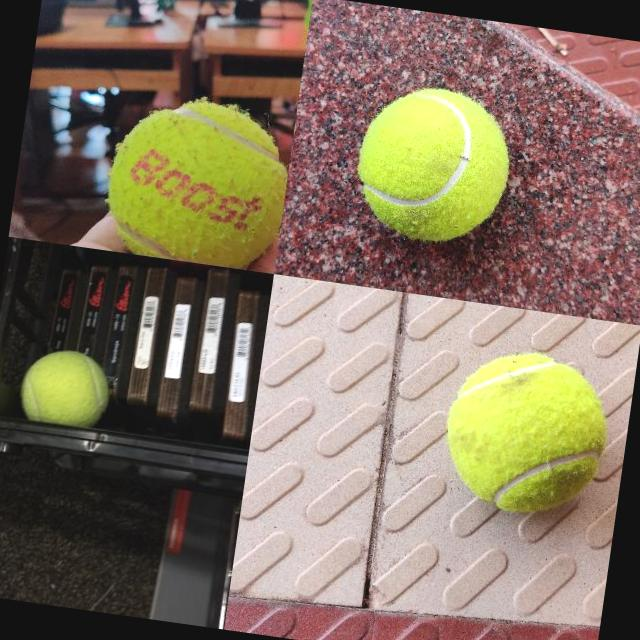tennis-ball: (98, 88, 296, 273), (434, 343, 616, 523), (350, 80, 518, 249), (16, 342, 116, 428)
